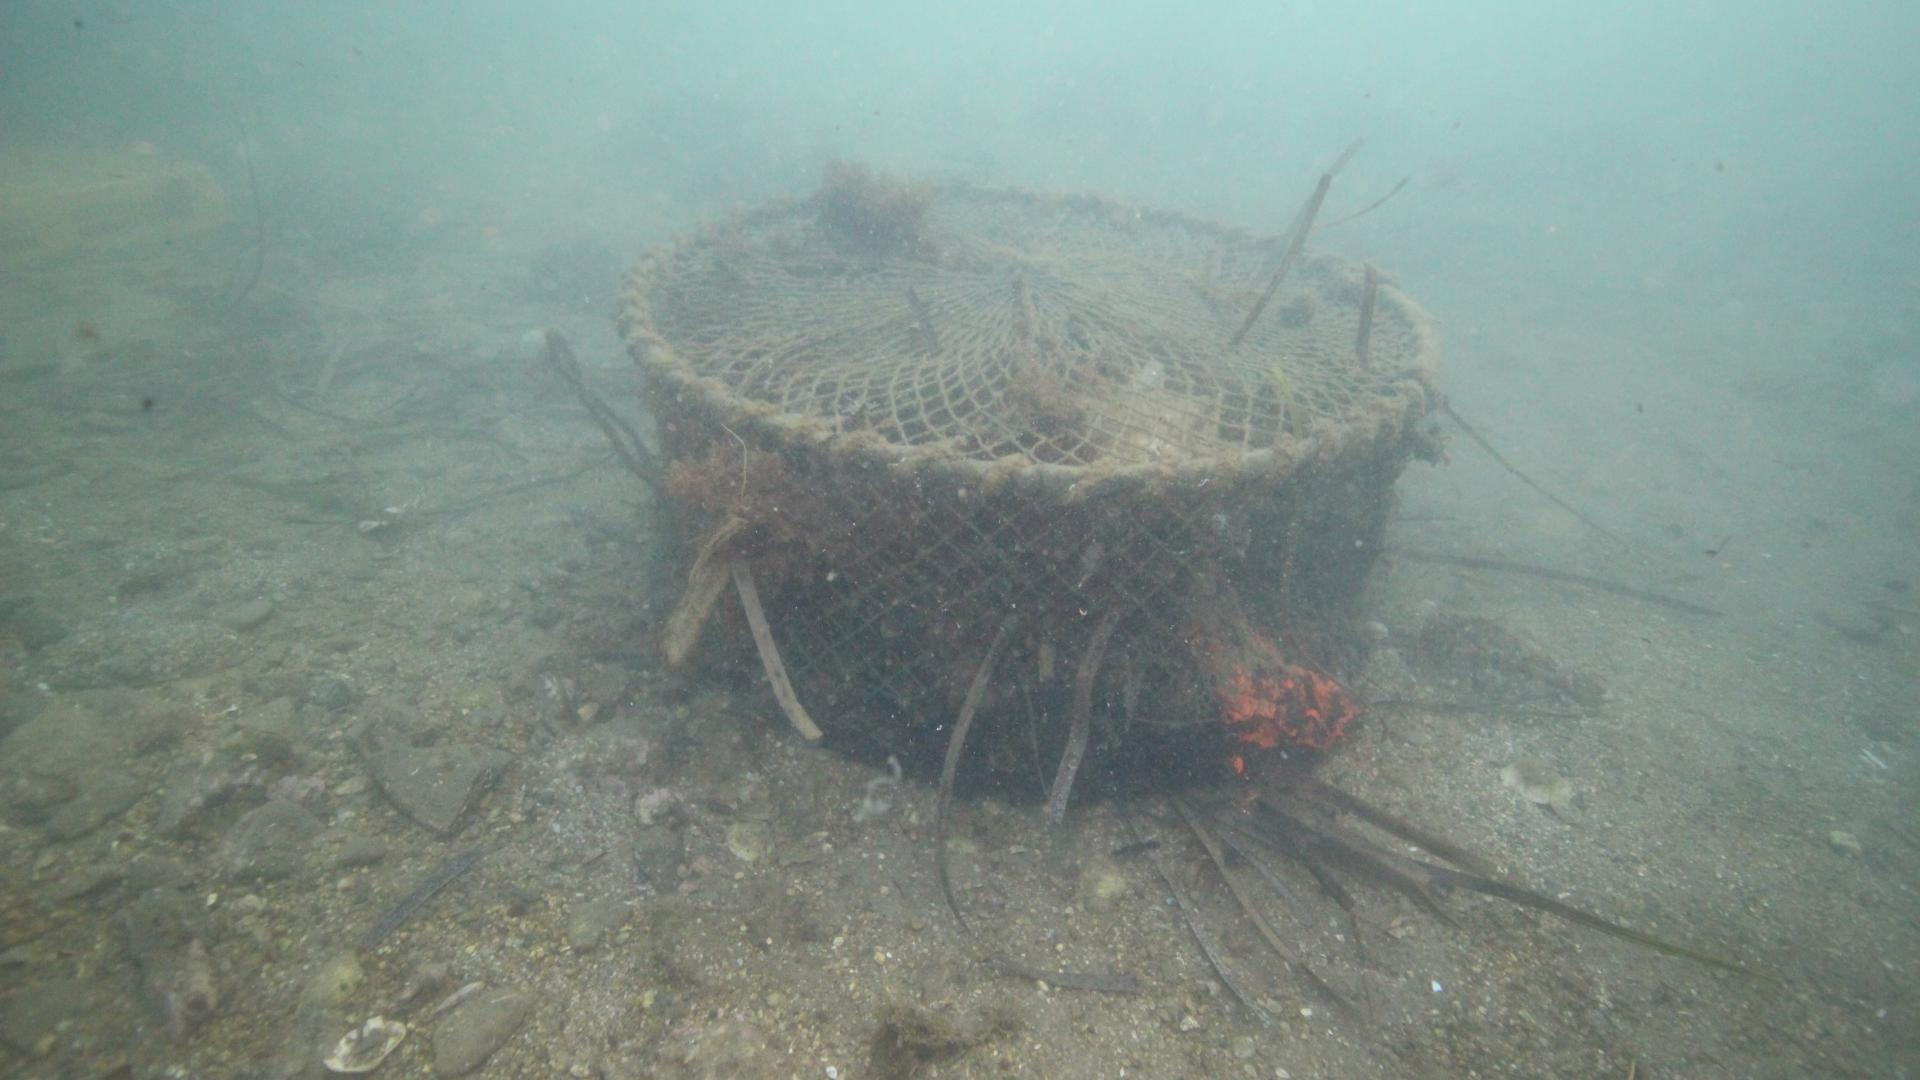circular fish trap: (612, 178, 1437, 799)
rope: (541, 324, 661, 491)
